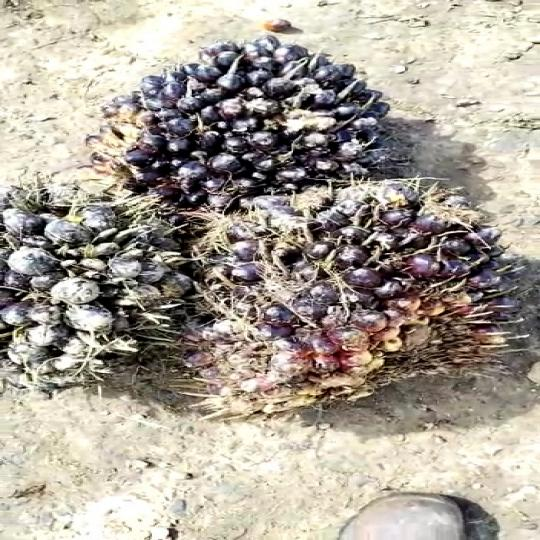mentah: (170, 190, 535, 414), (87, 36, 409, 196), (0, 201, 224, 400)
